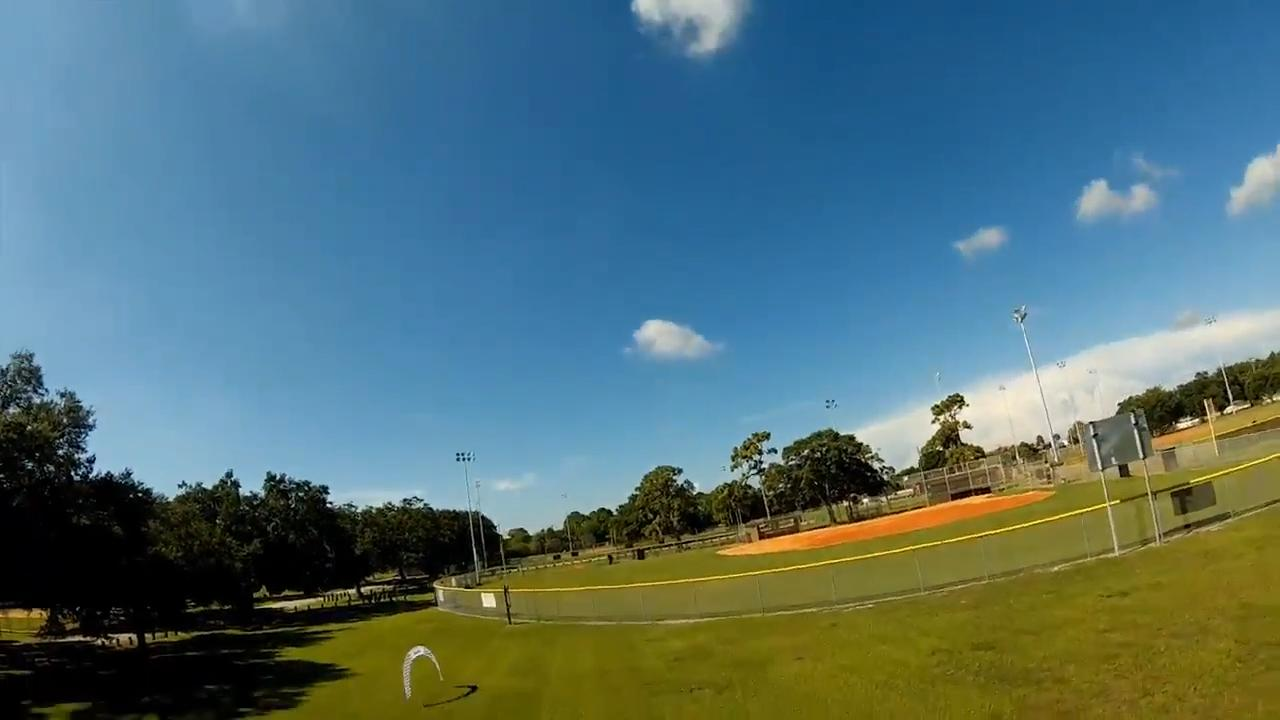gate: (397, 642, 447, 705)
